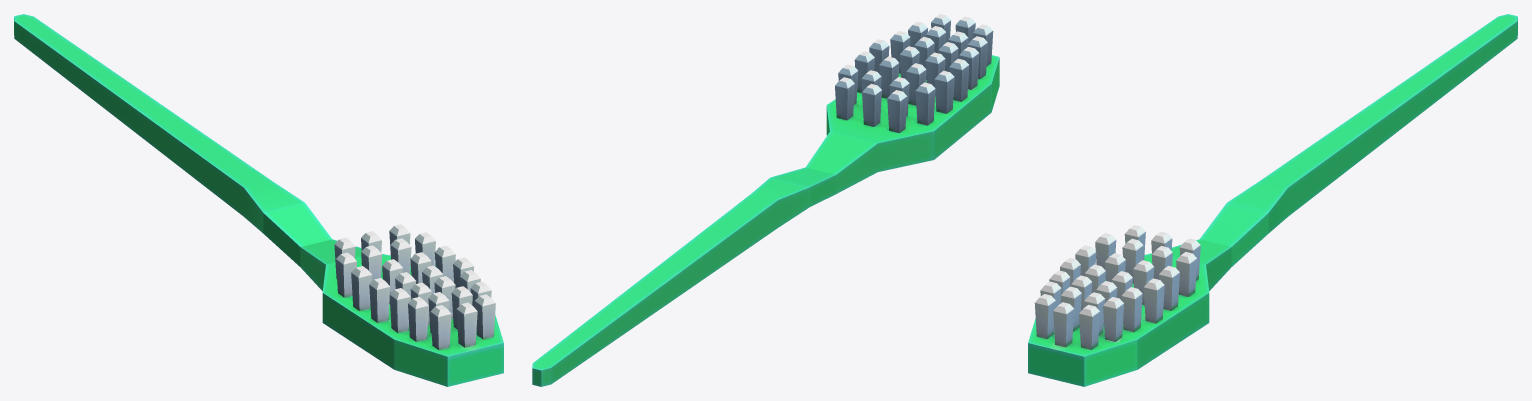
File: trevor_tootbrushv2.fbx
The picture shows the model from 3 angles, left to right: view 1: azimuth 30°, elevation 25°; view 2: azimuth 150°, elevation 25°; view 3: azimuth 330°, elevation 25°; orthographic projection. The views are drawn at different scales.
Parts seen in each view (by area): view 1: polySurface3; view 2: polySurface3; view 3: polySurface3.
Boxes of the visible parts, x1,y1,x2,y2 form: polySurface3: [14, 14, 503, 386]; polySurface3: [532, 14, 999, 386]; polySurface3: [1028, 14, 1517, 386].
Size of the model in its own units: 0.0167 by 0.0098 by 0.1173.
Materials: 1 (1 with a texture image).
